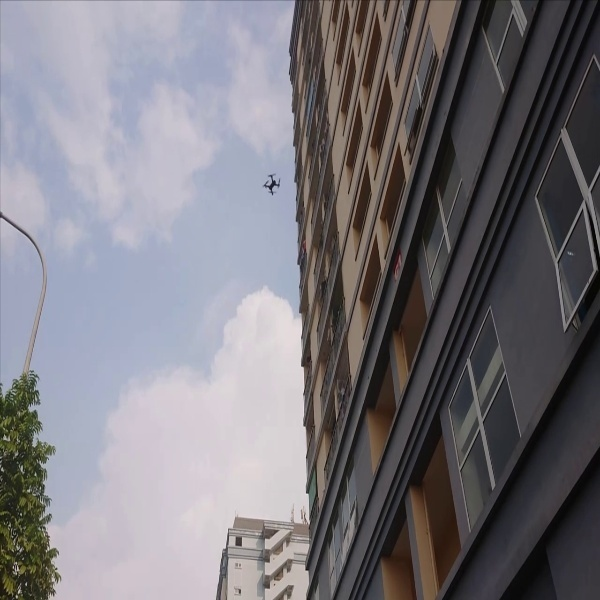drone: (256, 168, 288, 202)
